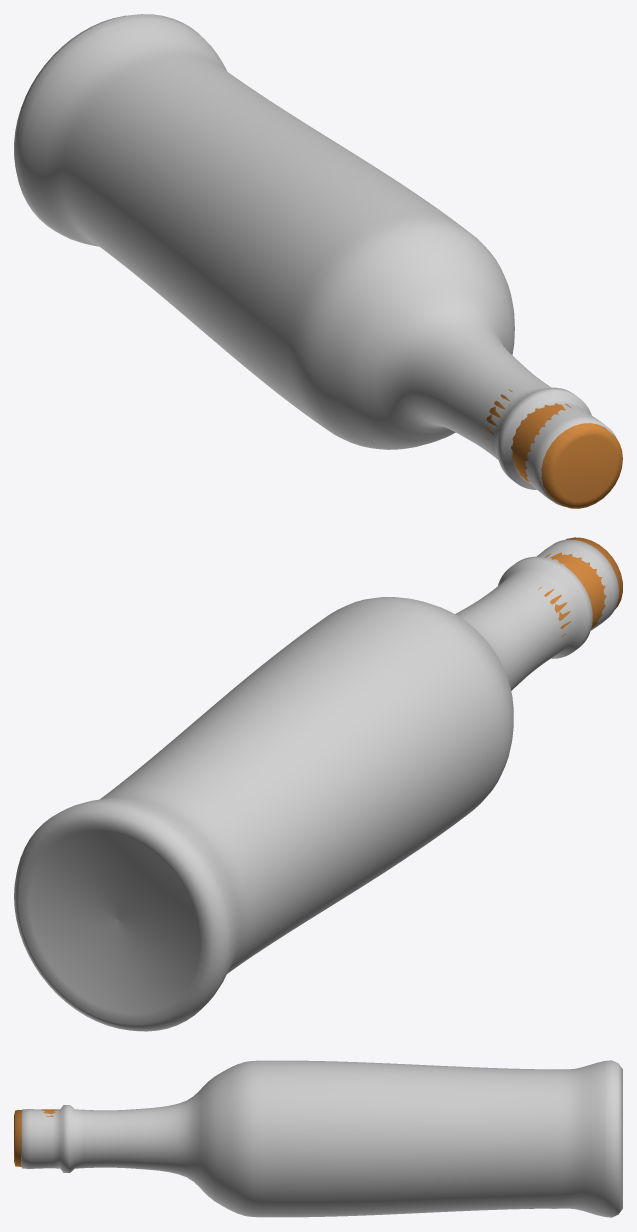
Rendered from flasche_05.dae.
The picture shows the model from 3 angles, top to bottom: view 1: azimuth 30°, elevation 25°; view 2: azimuth 150°, elevation 25°; view 3: azimuth 270°, elevation 25°; orthographic projection. The views are drawn at different scales.
Visible parts, largest first — view 1: Leuchtturm.2; view 2: Leuchtturm.2; view 3: Leuchtturm.2.
Part boxes in pixels (bbox=[...]): Leuchtturm.2: bbox=[14, 14, 622, 508]; Leuchtturm.2: bbox=[14, 537, 622, 1031]; Leuchtturm.2: bbox=[14, 1060, 622, 1217].
Bounding box in the file's own units: 1114 × 1114 × 4316.
